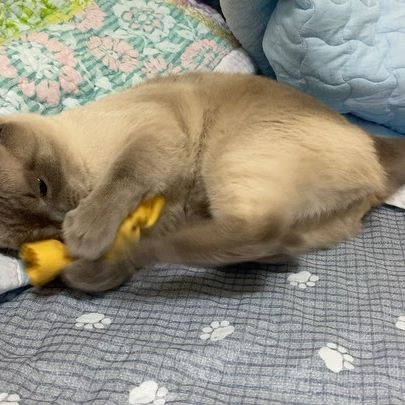cat: (2, 140, 117, 255)
